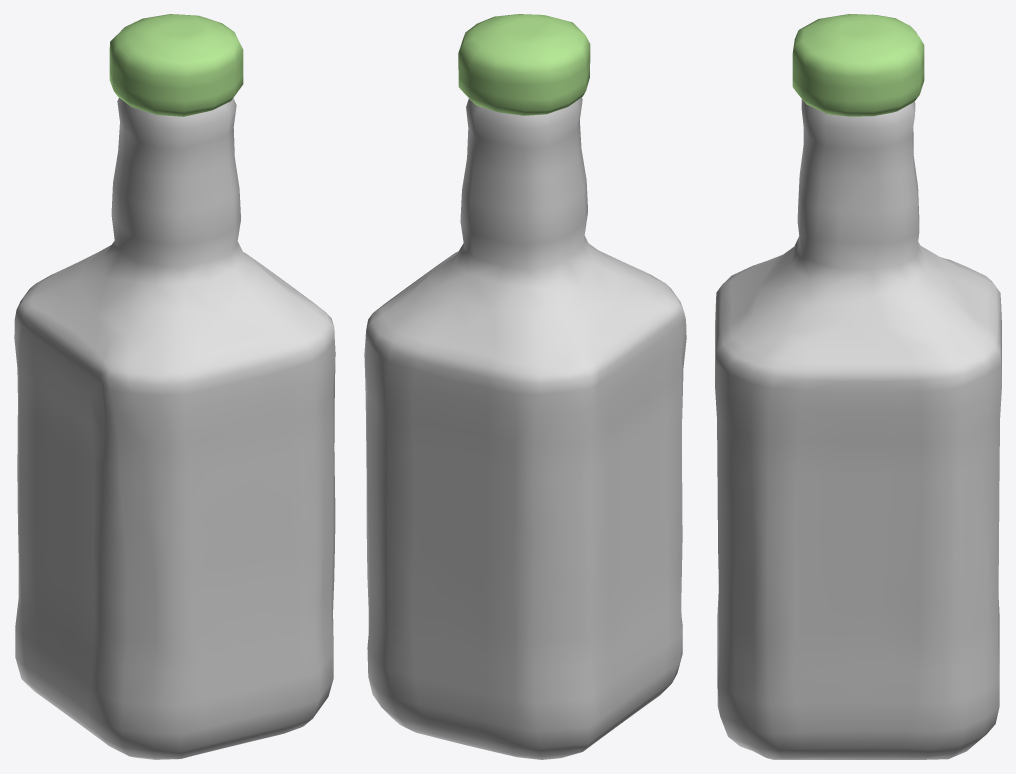
Rendered from bottle.fbx.
3 renders of one model, left to right at view 1: azimuth 30°, elevation 25°; view 2: azimuth 150°, elevation 25°; view 3: azimuth 270°, elevation 25°, orthographic.
Visible parts, largest first — view 1: Retopo_meshes[0], Retopo_meshes[0].001; view 2: Retopo_meshes[0], Retopo_meshes[0].001; view 3: Retopo_meshes[0], Retopo_meshes[0].001.
Boxes of the visible parts, <box> form: Retopo_meshes[0]: <box>14,98,335,759</box>; Retopo_meshes[0].001: <box>109,14,243,116</box>; Retopo_meshes[0]: <box>364,97,686,759</box>; Retopo_meshes[0].001: <box>458,14,590,115</box>; Retopo_meshes[0]: <box>715,99,1001,759</box>; Retopo_meshes[0].001: <box>792,14,924,116</box>.
Bounding box in the file's own units: 35.56 × 99.99 × 37.68.
